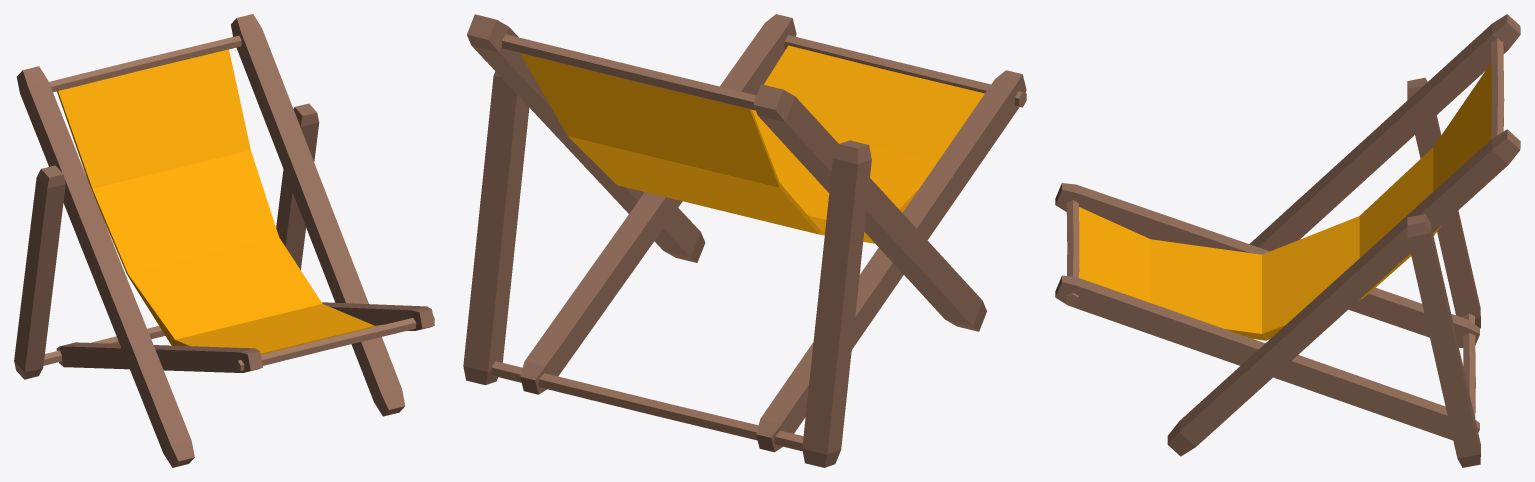
Rendered from Beach_chair_04.fbx.
The picture shows the model from 3 angles, left to right: view 1: azimuth 30°, elevation 25°; view 2: azimuth 150°, elevation 25°; view 3: azimuth 270°, elevation 25°; orthographic projection. The views are drawn at different scales.
Parts seen in each view (by area): view 1: Beach_chair_04; view 2: Beach_chair_04; view 3: Beach_chair_04.
Part boxes in pixels (box(x1,y1,x2,y2)): Beach_chair_04: box(14, 14, 434, 467); Beach_chair_04: box(463, 14, 1026, 467); Beach_chair_04: box(1055, 14, 1520, 467).
Bounding box in the file's own units: 103 × 105 × 138.
